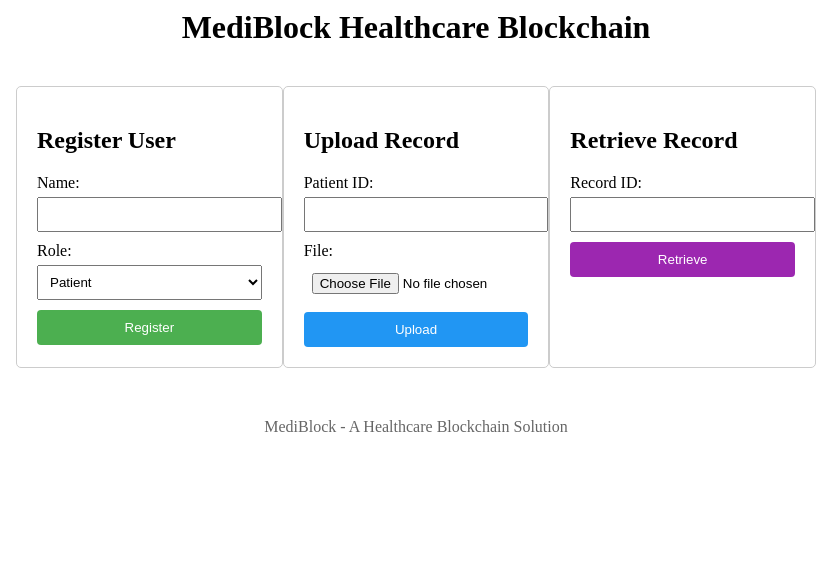
Test: Home page › should register a user when form is submitted
# Fill in the form
Type "Test User" into the field labelled "Name:". click: (159, 215)
box: [37,197,282,232]
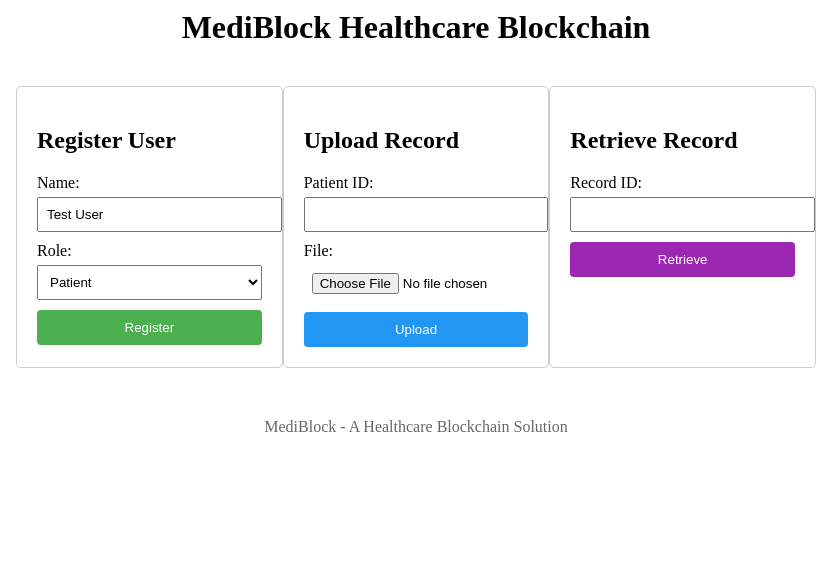
Select "Provider" in the dropdown labelled "Role:". click: (149, 283)
box: [37,265,262,300]
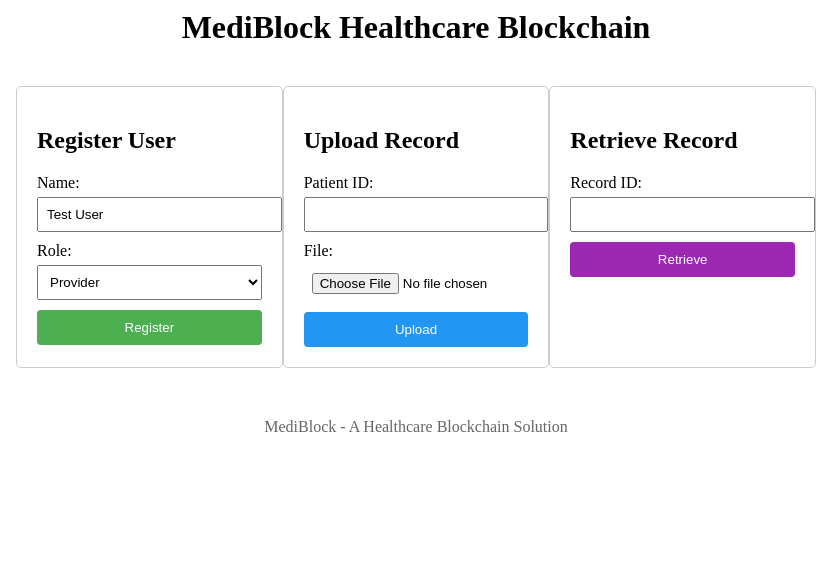
# Submit the form
Click the button "Register". click: (149, 328)
box: [37,310,262,345]
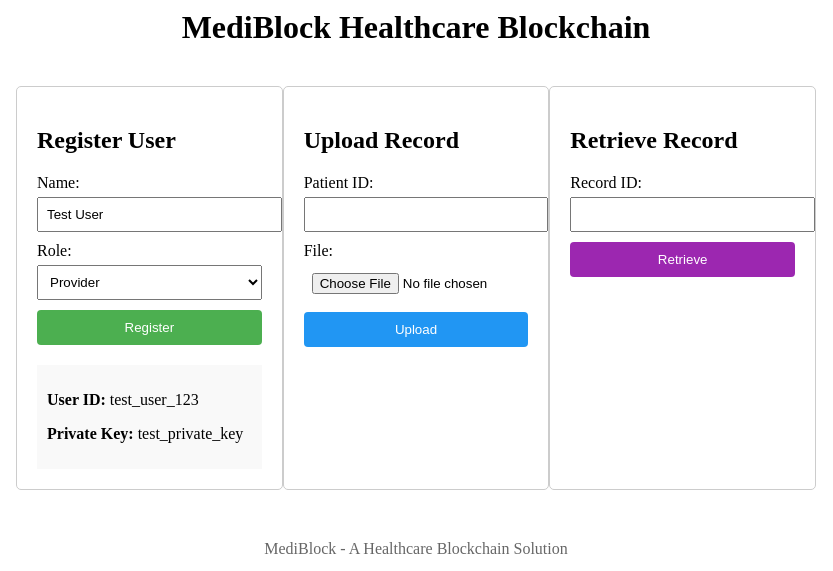
Expected: the text "User ID:" is shown, [47,391,106,408]
Expected: the text "test_user_123" is shown, [110,391,199,408]
Expected: the text "Private Key:" is shown, [47,425,134,442]
